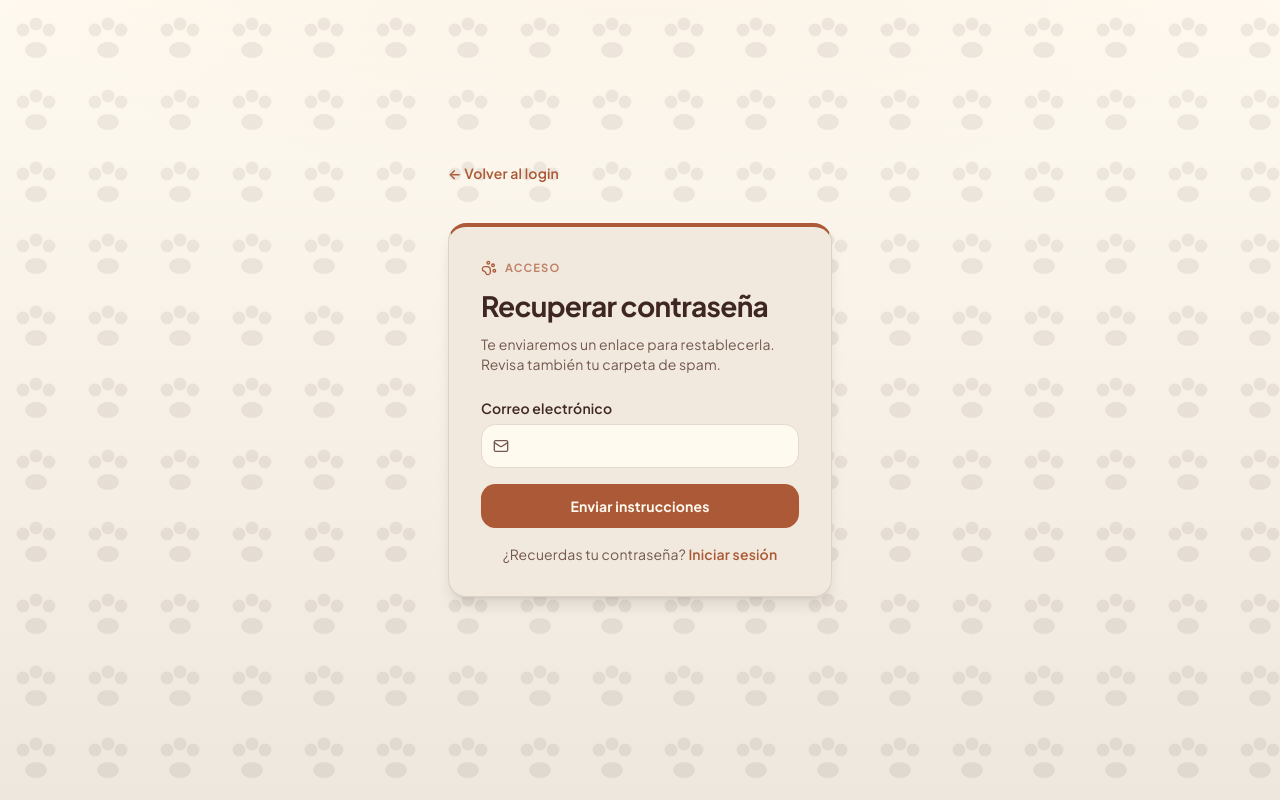
Test: ForgotPasswordPage › muestra error si la API falla
Type "mal@test.com" into the field labelled "Correo electrónico" at (640, 446), box [481,424,799,468]
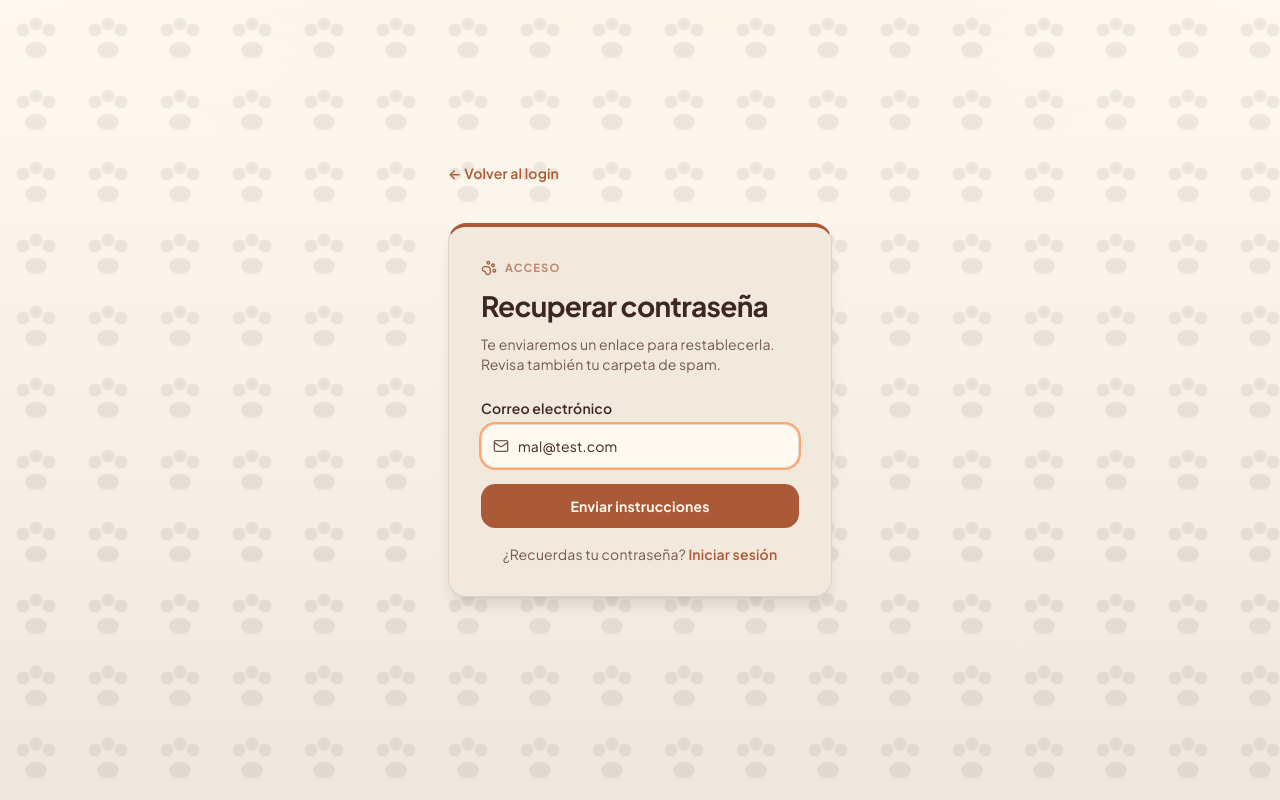
Click the button "Enviar instrucciones" at (640, 506), box [481,484,799,528]
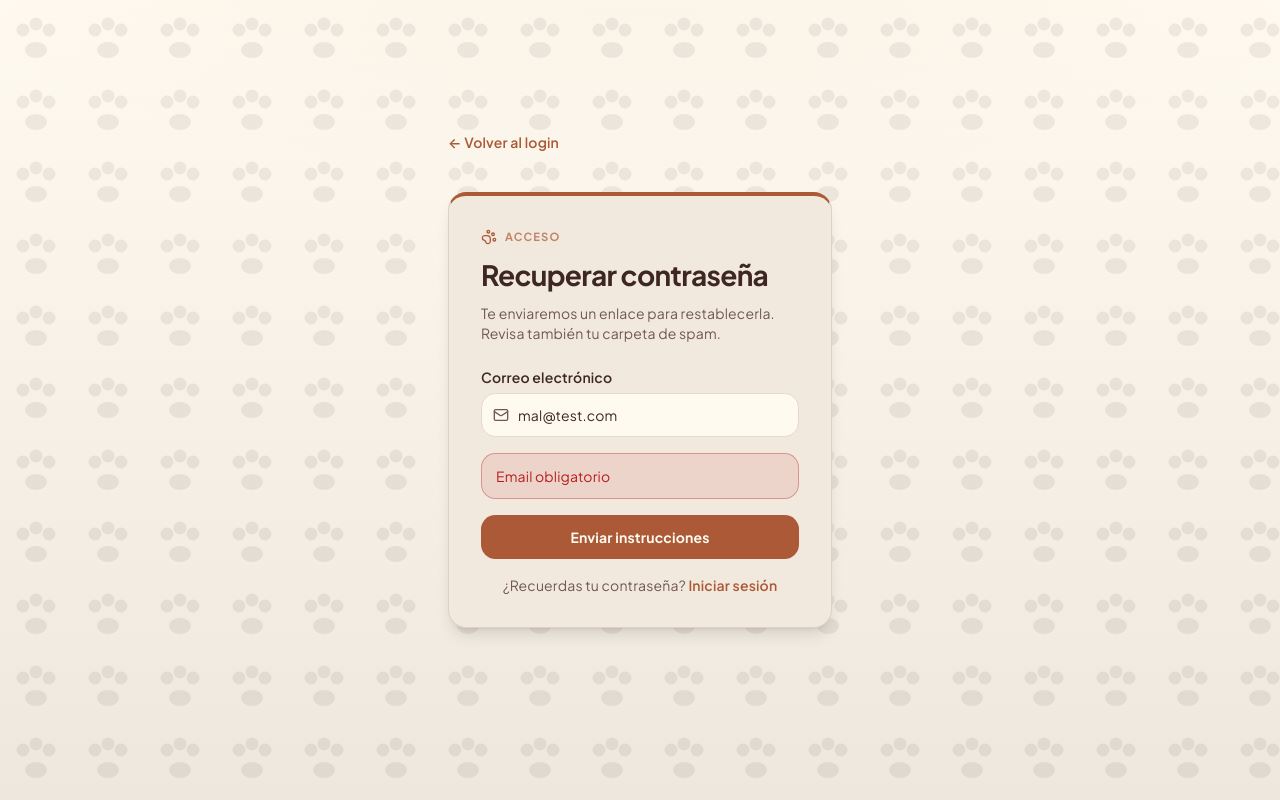
Result: the message reads "Email obligatorio" at [496,467,610,485]
